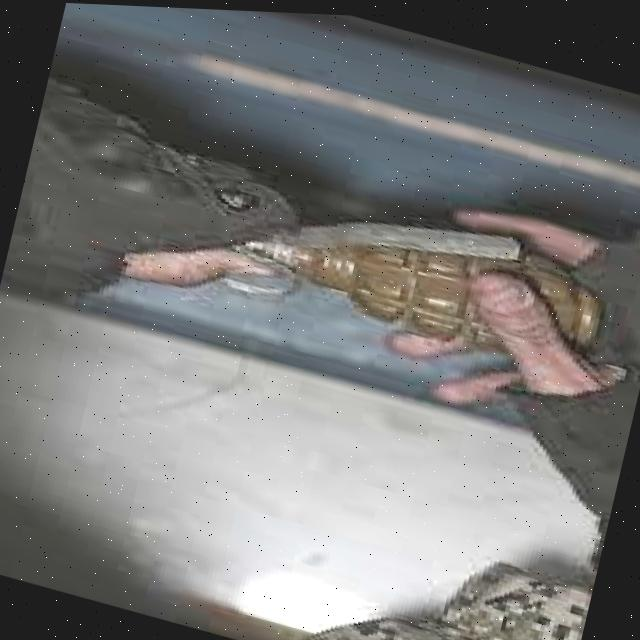grenade: (187, 152, 626, 385)
